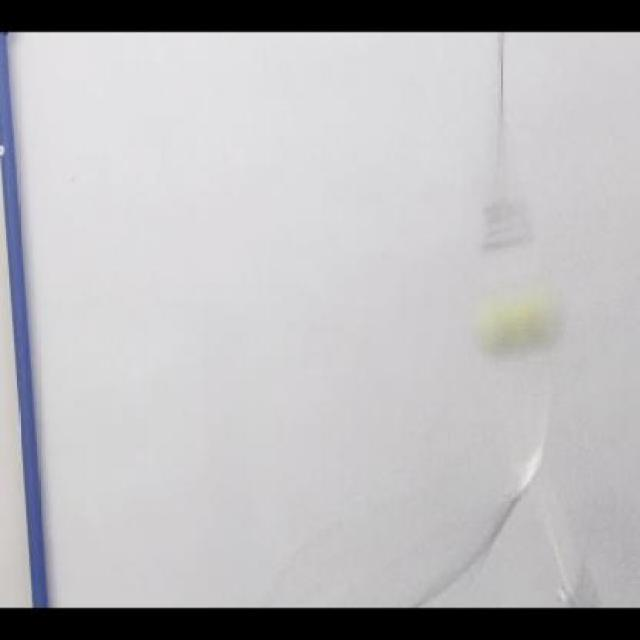baseball: (470, 286, 562, 360)
